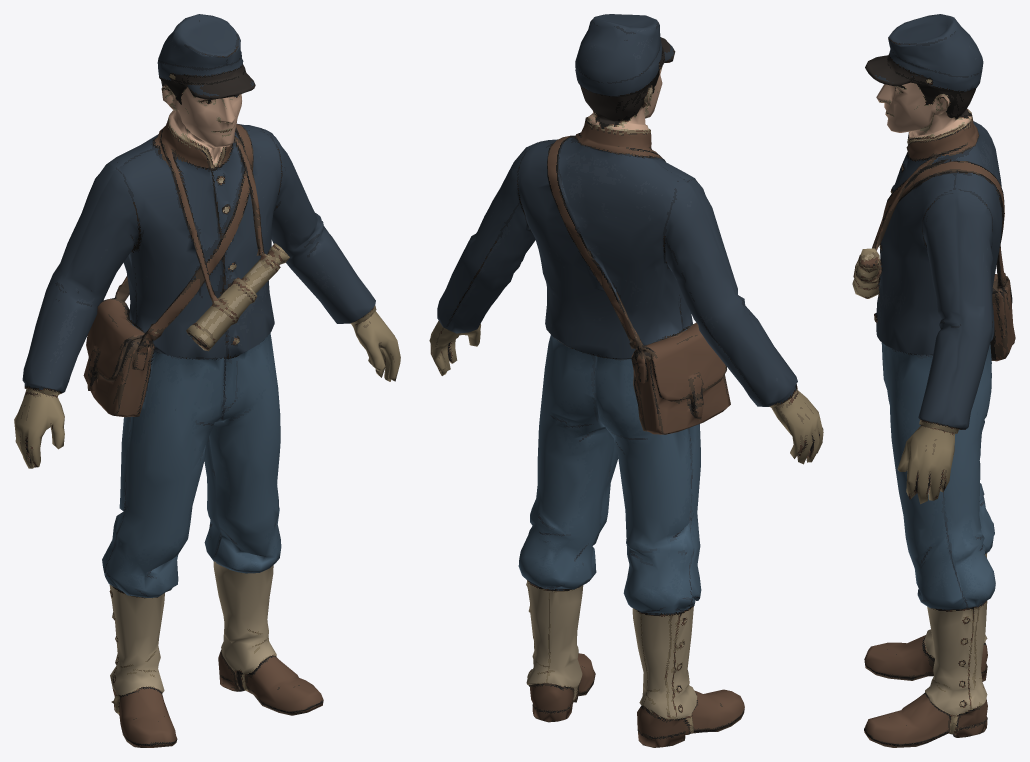
Rendered from observador.glb.
3 renders of one model, left to right at view 1: azimuth 30°, elevation 25°; view 2: azimuth 150°, elevation 25°; view 3: azimuth 270°, elevation 25°, orthographic. The views are drawn at different scales.
Visible parts, largest first — view 1: tripo_node_90e351e1-2a12-4b3a-9de0-62a7ce89b68f; view 2: tripo_node_90e351e1-2a12-4b3a-9de0-62a7ce89b68f; view 3: tripo_node_90e351e1-2a12-4b3a-9de0-62a7ce89b68f.
Part boxes in pixels (bbox=[...]): tripo_node_90e351e1-2a12-4b3a-9de0-62a7ce89b68f: bbox=[14, 14, 400, 747]; tripo_node_90e351e1-2a12-4b3a-9de0-62a7ce89b68f: bbox=[429, 14, 823, 747]; tripo_node_90e351e1-2a12-4b3a-9de0-62a7ce89b68f: bbox=[852, 14, 1015, 747].
Bounding box in the file's own units: 0.5723 × 1 × 0.2165.
Materials: 1 (1 with a texture image).
